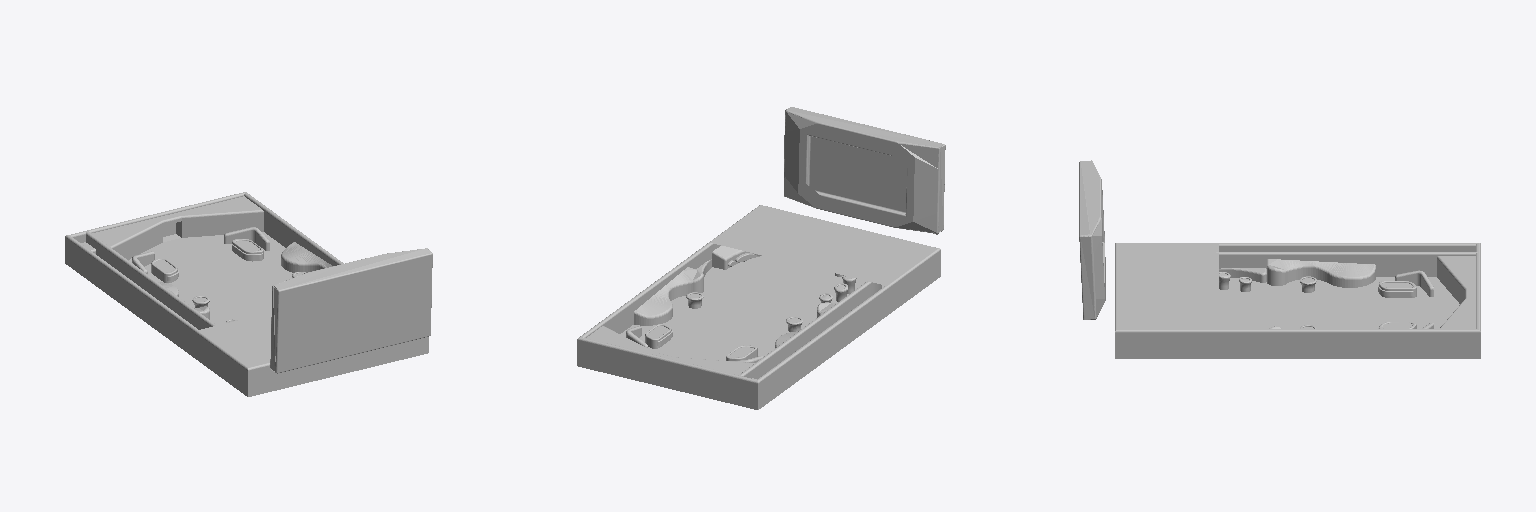
File: pinballV4.obj
The picture shows the model from 3 angles: view 1: azimuth 30°, elevation 25°; view 2: azimuth 150°, elevation 25°; view 3: azimuth 270°, elevation 25°; orthographic projection.
Parts seen in each view (by area): view 1: BackBoard_Cube.035, TableFloor.003_Cube.078, TableWalls.005_Cube.079, TableTop.004_Cube.080, TableBottom.008_Cube.081, SCurveRight.003_Cylinder.034, PaddleGuard_Right.008_Cube.084, PaddleRail_Right.003_Cube.082; view 2: BackBoard_Cube.035, TableWalls.005_Cube.079, TableTop.004_Cube.080, TableFloor.003_Cube.078, SCurveRight.003_Cylinder.034, TableBottom.008_Cube.081, PaddleGuard_Right.008_Cube.084, UpperLeftBumpers.006_Cube.093; view 3: TableWalls.005_Cube.079, TableTop.004_Cube.080, TableFloor.003_Cube.078, BackBoard_Cube.035, SCurveRight.003_Cylinder.034, TableBottom.008_Cube.081, PaddleGuard_Right.008_Cube.084, PaddleRail_Right.003_Cube.082.
Part boxes in pixels (x1,y1,x2,y2): BackBoard_Cube.035: (270, 248, 432, 373); TableFloor.003_Cube.078: (65, 232, 428, 396); TableWalls.005_Cube.079: (65, 192, 343, 353); TableTop.004_Cube.080: (196, 312, 428, 392); TableBottom.008_Cube.081: (92, 196, 263, 259); SCurveRight.003_Cylinder.034: (159, 242, 332, 319); PaddleGuard_Right.008_Cube.084: (151, 239, 263, 282); PaddleRail_Right.003_Cube.082: (132, 227, 269, 273); BackBoard_Cube.035: (784, 107, 945, 234); TableWalls.005_Cube.079: (577, 243, 888, 405); TableTop.004_Cube.080: (709, 205, 940, 309); TableFloor.003_Cube.078: (577, 256, 940, 409); SCurveRight.003_Cylinder.034: (634, 267, 835, 347); TableBottom.008_Cube.081: (587, 326, 754, 374); PaddleGuard_Right.008_Cube.084: (645, 324, 757, 360); UpperLeftBumpers.006_Cube.093: (712, 246, 761, 269); TableWalls.005_Cube.079: (1219, 243, 1480, 353); TableTop.004_Cube.080: (1115, 243, 1218, 353); TableFloor.003_Cube.078: (1115, 277, 1480, 358); BackBoard_Cube.035: (1079, 160, 1105, 319); SCurveRight.003_Cylinder.034: (1267, 259, 1375, 328); TableBottom.008_Cube.081: (1437, 256, 1475, 328); PaddleGuard_Right.008_Cube.084: (1378, 281, 1416, 328); PaddleRail_Right.003_Cube.082: (1395, 270, 1433, 328).
Bounding box in the file's own units: 20 × 12.43 × 38.4.